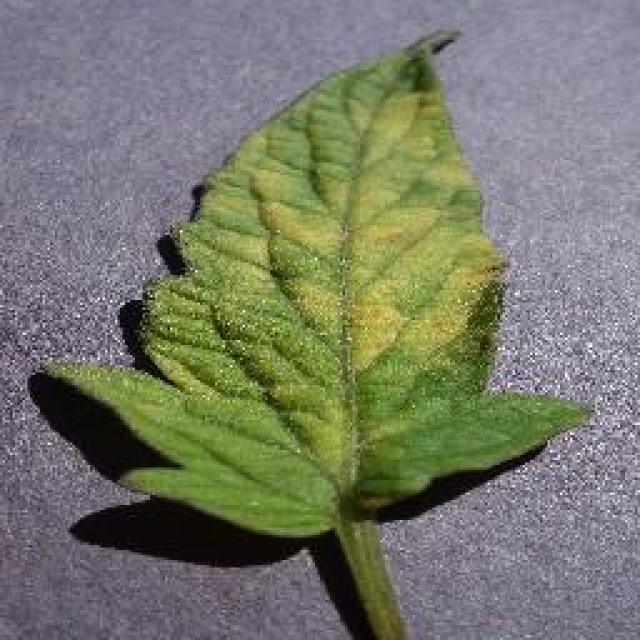Tomato___Leaf_Mold: (42, 30, 585, 638)
